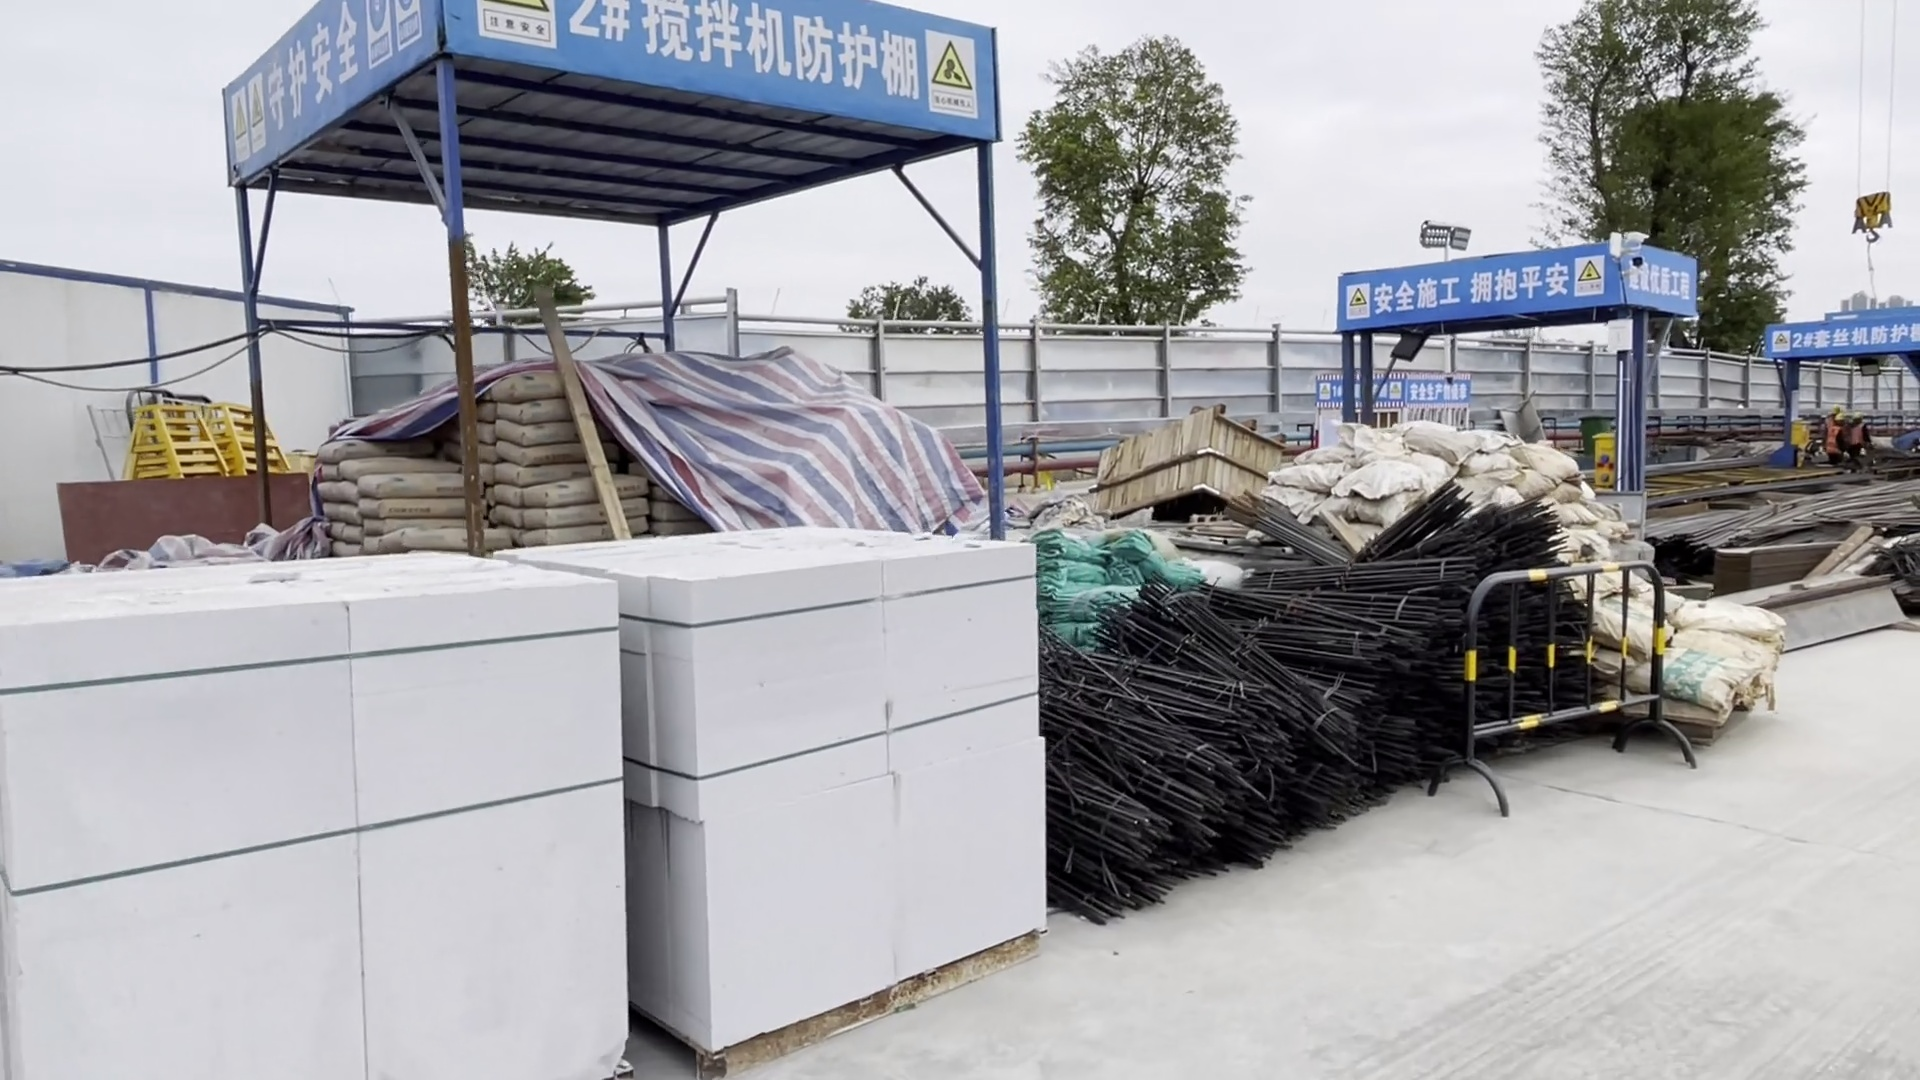brick: (1, 542, 612, 1080), (617, 504, 1058, 1080)
ebox: (1592, 426, 1619, 498), (1785, 419, 1811, 459)
slogan: (251, 12, 371, 113), (1367, 266, 1573, 313)
